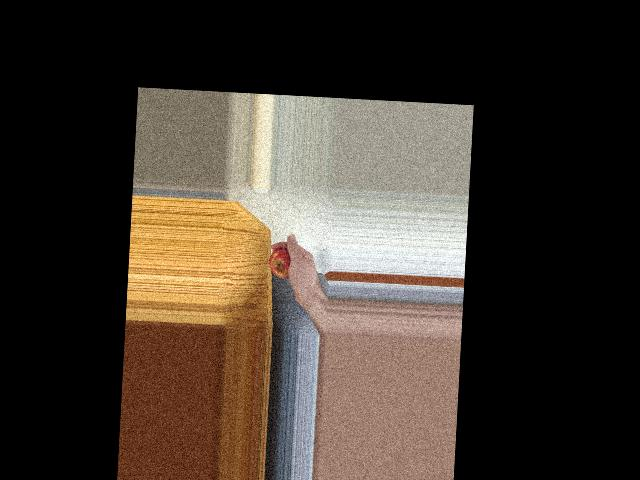apple: (266, 246, 302, 282)
